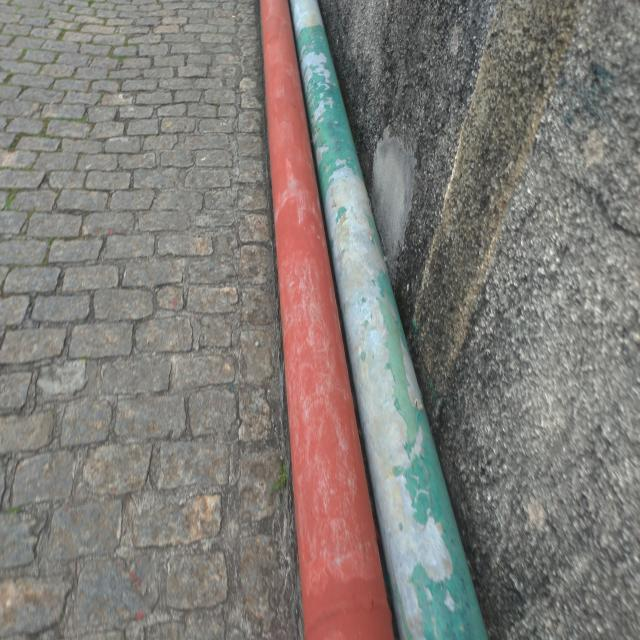gas: (292, 10, 491, 632), (260, 7, 398, 633)
